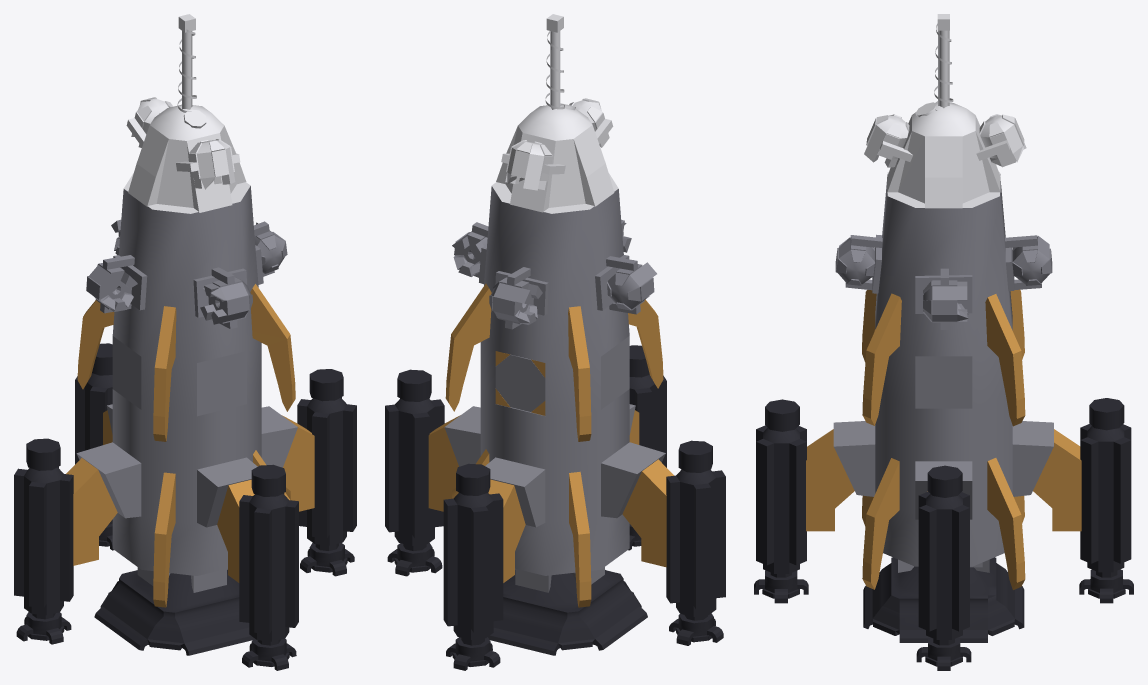
The model's file is tier7_rocket.obj.
3 views of the same model, side by side, from view 1: azimuth 30°, elevation 25°; view 2: azimuth 150°, elevation 25°; view 3: azimuth 270°, elevation 25° (orthographic).
Parts seen in each view (by area): view 1: Body_Rocket, Nozzle, RocketEngine, RocketEngine003, RocketEngine001, Rocket_stabilizer2, CorrectedWind005, RocketEngine002, CorrectedWind008, CorrectedWind4, Cylinder005, Rocket_stabilizer1 (+14 smaller); view 2: Body_Rocket, Nozzle, RocketEngine002, RocketEngine003, RocketEngine001, Rocket_stabilizer2, CorrectedWind006, RocketEngine, CorrectedWind007, GlassWindow, CorrectedWind3, Cylinder001 (+15 smaller); view 3: Body_Rocket, RocketEngine001, RocketEngine002, Nozzle, RocketEngine, Rocket_stabilizer3, Rocket_stabilizer4, CorrectedWind006, CorrectedWind005, CorrectedWind2, CorrectedWind1, Cylinder001 (+13 smaller).
Boxes of the visible parts, x1,y1,x2,y2 form: Body_Rocket: [76, 104, 297, 592]; Nozzle: [94, 570, 253, 655]; RocketEngine: [239, 493, 298, 641]; RocketEngine003: [14, 466, 73, 615]; RocketEngine001: [297, 397, 356, 545]; Rocket_stabilizer2: [66, 458, 117, 565]; CorrectedWind005: [250, 284, 295, 411]; RocketEngine002: [75, 373, 112, 464]; CorrectedWind008: [153, 306, 176, 441]; CorrectedWind4: [153, 472, 175, 607]; Cylinder005: [200, 267, 252, 328]; Rocket_stabilizer1: [282, 415, 314, 511]; Body_Rocket: [444, 105, 665, 592]; Nozzle: [488, 570, 647, 655]; RocketEngine002: [443, 492, 503, 639]; RocketEngine003: [666, 469, 725, 616]; RocketEngine001: [385, 398, 444, 545]; Rocket_stabilizer2: [622, 459, 673, 567]; CorrectedWind006: [445, 283, 491, 411]; RocketEngine: [629, 375, 666, 467]; CorrectedWind007: [568, 306, 591, 441]; GlassWindow: [495, 354, 545, 411]; CorrectedWind3: [569, 471, 591, 607]; Cylinder001: [489, 267, 542, 329]; Body_Rocket: [833, 103, 1053, 572]; RocketEngine001: [918, 491, 969, 639]; RocketEngine002: [1080, 423, 1131, 572]; Nozzle: [863, 557, 1024, 642]; RocketEngine: [756, 425, 806, 573]; Rocket_stabilizer3: [1033, 429, 1081, 531]; Rocket_stabilizer4: [806, 429, 854, 531]; CorrectedWind006: [985, 294, 1025, 426]; CorrectedWind005: [862, 293, 901, 425]; CorrectedWind2: [987, 458, 1025, 589]; CorrectedWind1: [862, 458, 899, 589]; Cylinder001: [1005, 235, 1052, 289].
Bounding box in the file's own units: 13.14 × 22.84 × 13.24.
